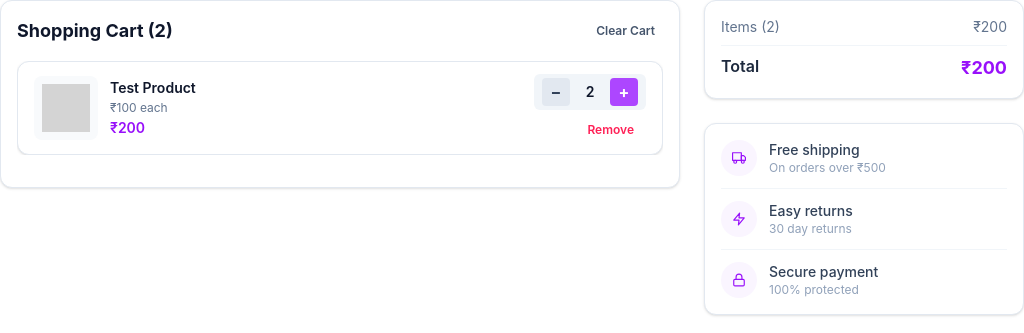
it: CartSummary integration › updates total items and price when quantity decreases
Click the button "−" at (556, 92), box [542, 78, 570, 106]
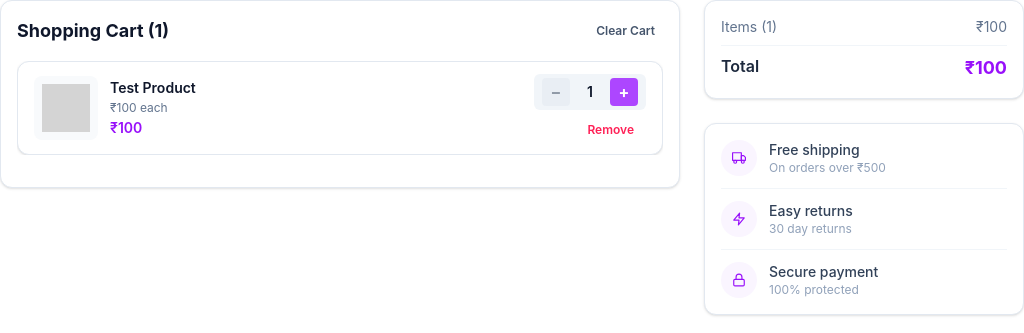
Result: the text "Items (1)" is shown at [721, 17, 777, 37]
Result: the text with test id "cart-total" shows "100" at [975, 57, 1007, 78]
